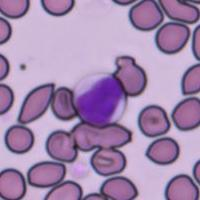M: (74, 71, 127, 127)
